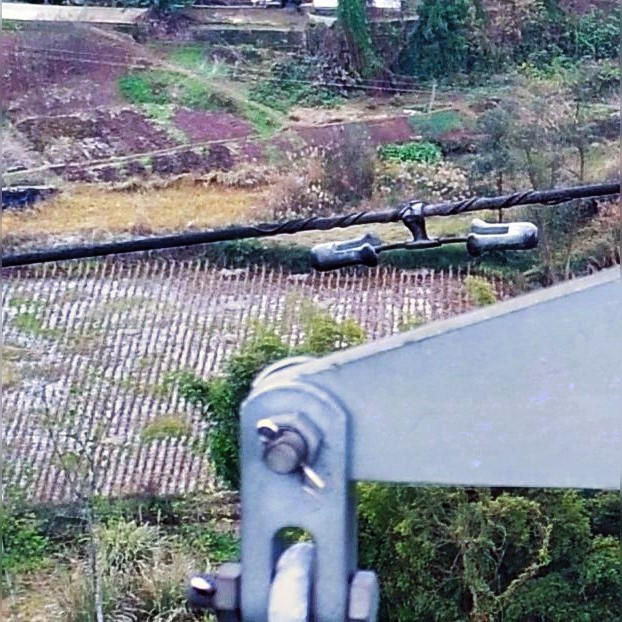Shockproof hammer: (301, 184, 550, 275)
